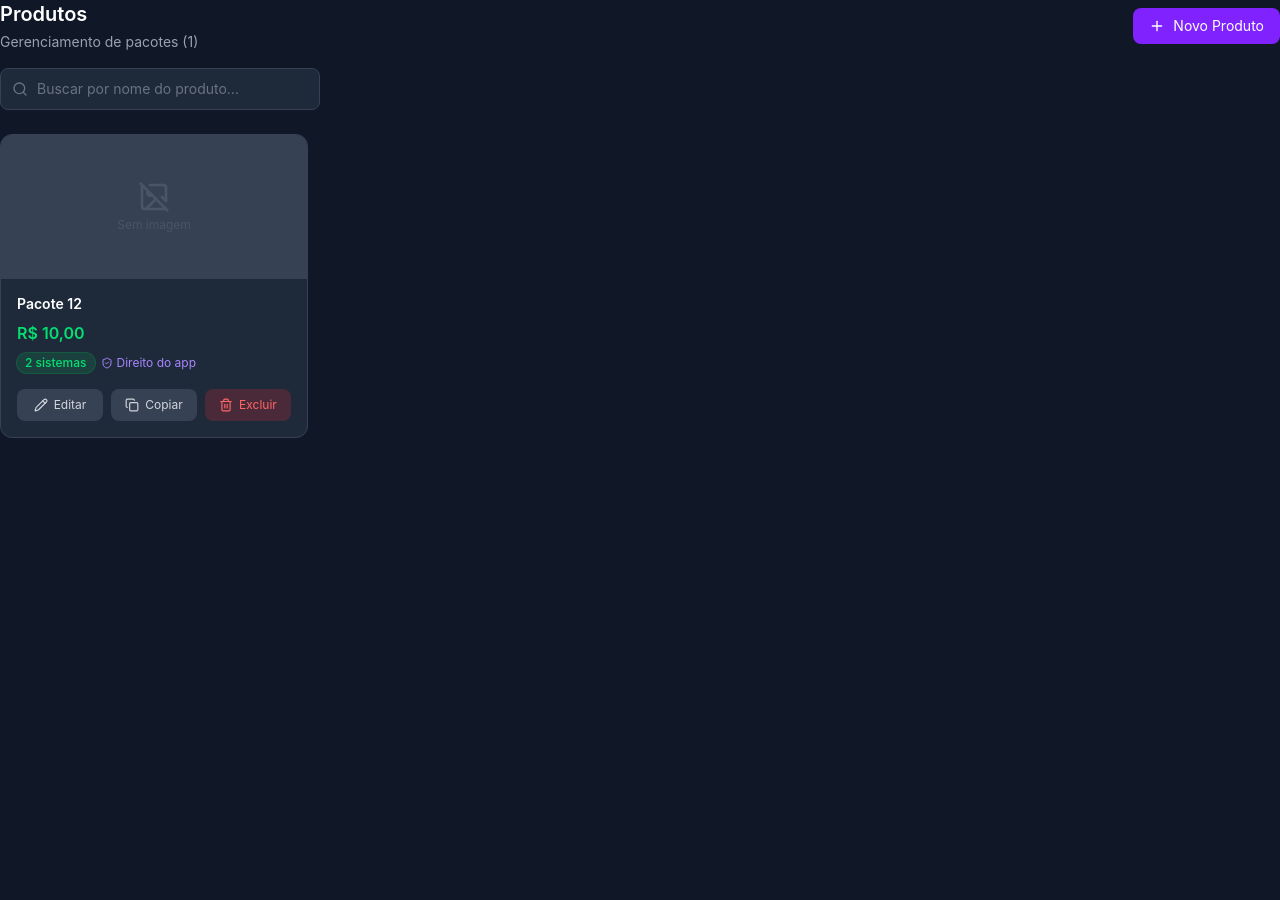
Test: Products: cadastro de direito › sistema que saiu do repositorio aparece marcado, sem sumir
This screenshot has width=1280, height=900.
Click the button "Direito do app" at (148, 362), box [100, 354, 196, 370]
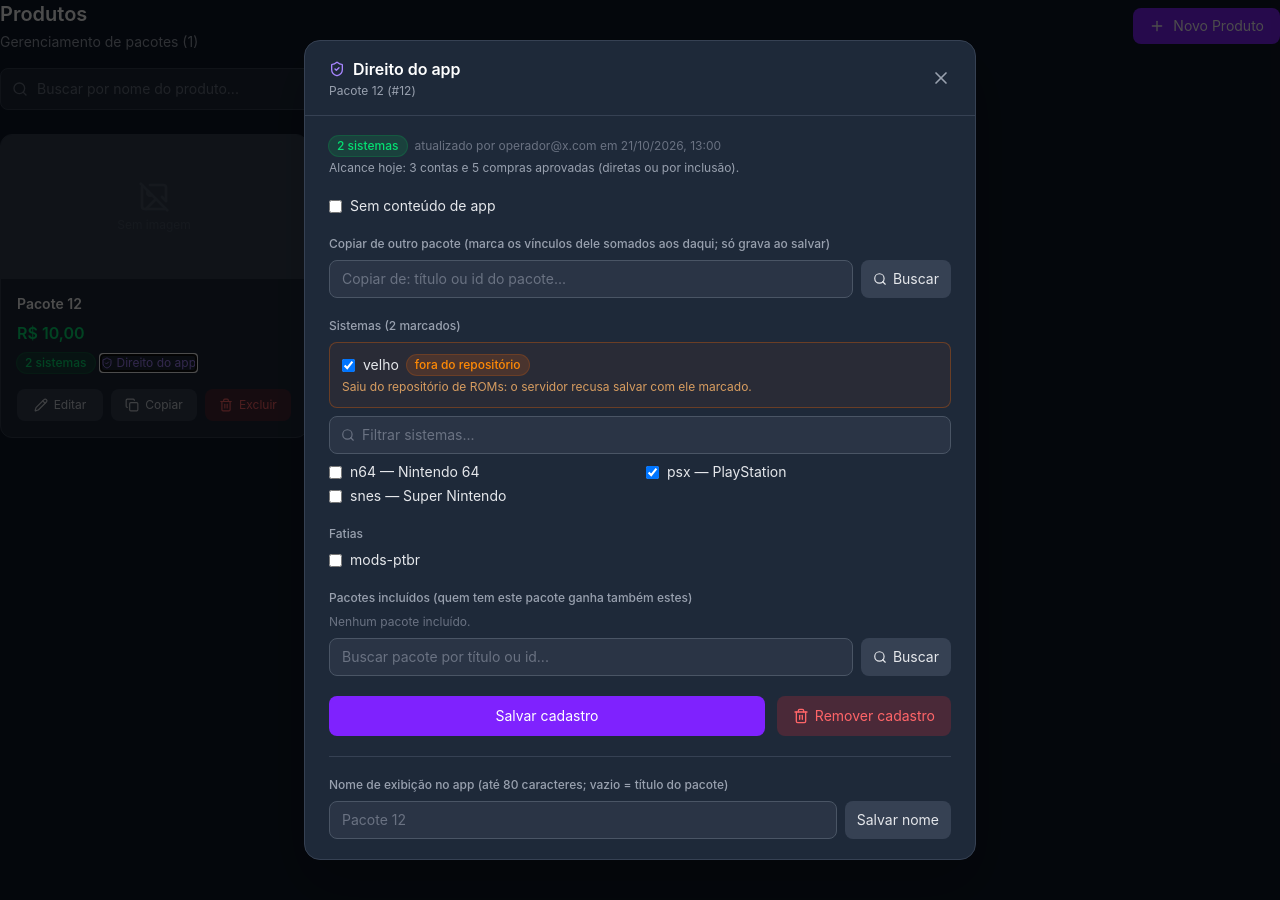
Check: the checkbox labelled "velho fora do repositório" is checked, box [342, 358, 355, 372]
Check: the label "velho fora do repositório" is shown, box [342, 355, 529, 375]
Check: the checkbox labelled "psx — PlayStation" is checked, box [646, 466, 659, 478]
